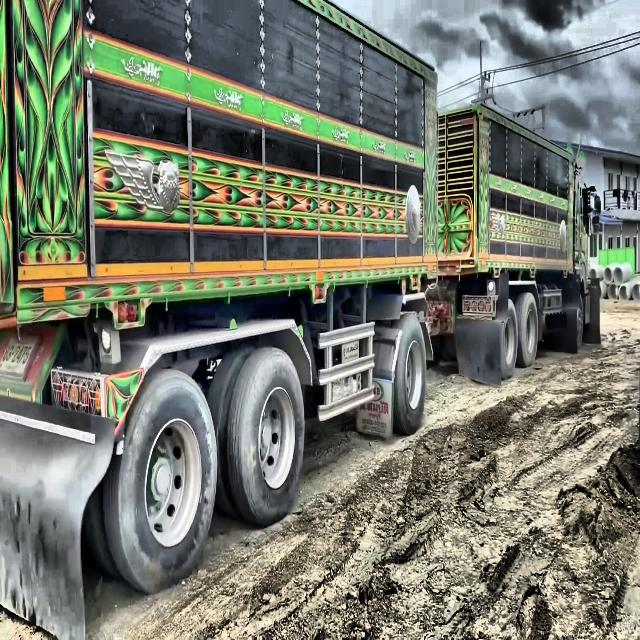trailer: (0, 0, 595, 603)
